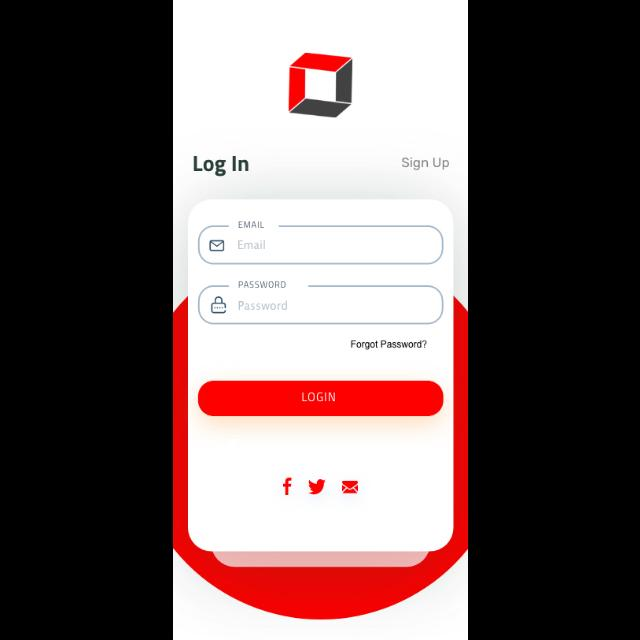icon: (308, 480, 326, 494), (212, 298, 226, 314), (342, 481, 358, 493), (210, 240, 224, 252), (283, 478, 291, 494)
image: (288, 54, 352, 118)
input: (197, 222, 443, 266), (198, 282, 442, 326)
panel: (187, 200, 453, 552)
text: (194, 156, 248, 178), (350, 341, 426, 351), (401, 157, 449, 171), (239, 300, 287, 310), (238, 282, 286, 288), (239, 240, 265, 250), (238, 222, 264, 228)
textbutton: (198, 381, 442, 417)
